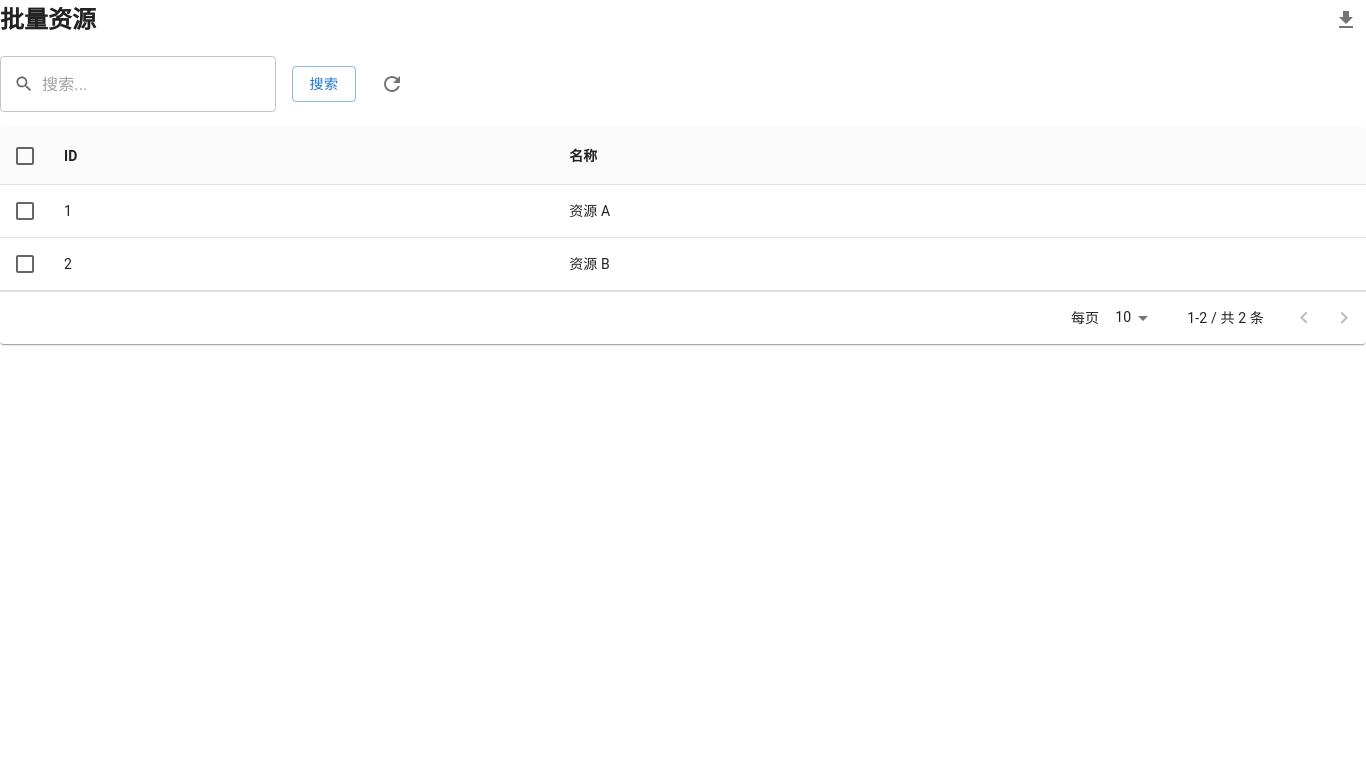
Test case: CrudTablePage › keeps batch delete failures visible and retains selected ids
Expected: the text "资源 A" is shown, [553,185,1365,238]
Click the checkbox in the row of "资源 A": (25, 211) [13,199,37,223]
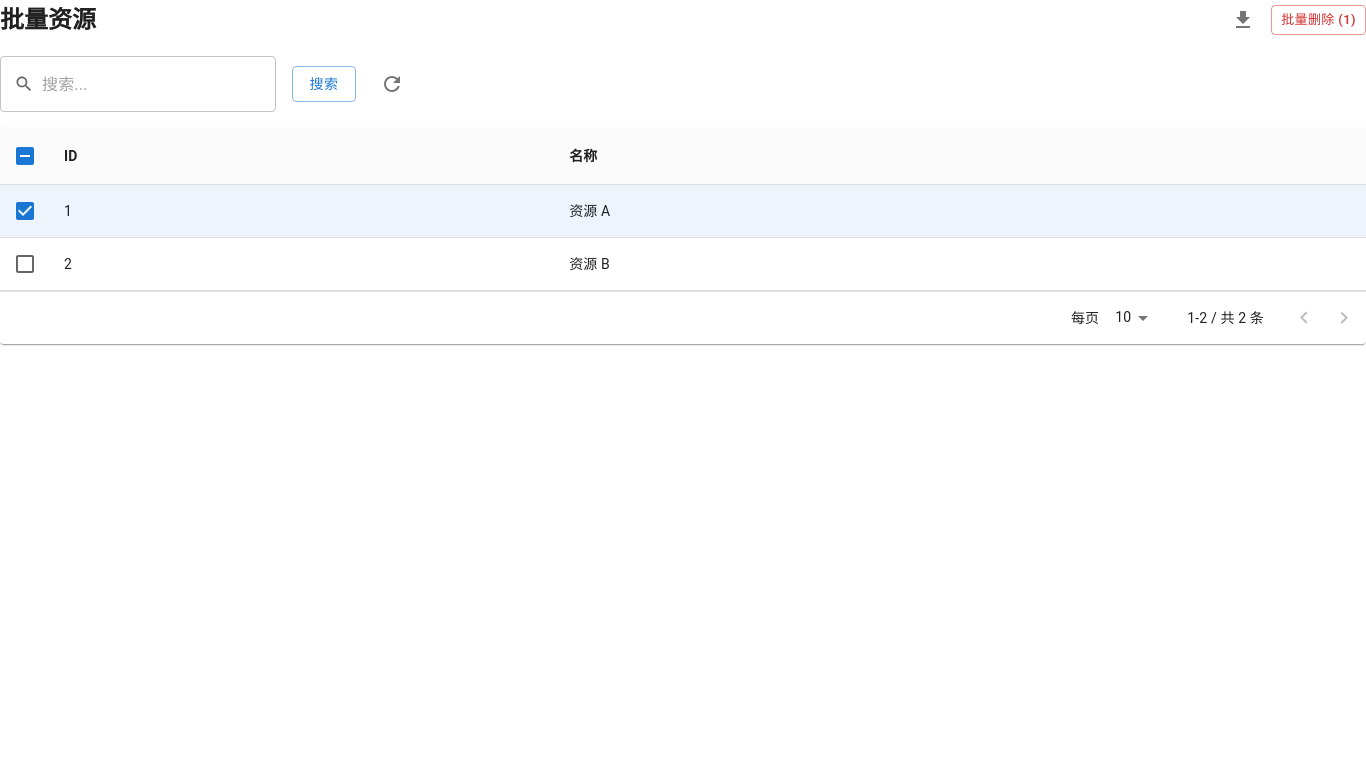
Expected: the element with test id "datatable-page-shell" has attribute data-selected-count="1", [0,0,1365,344]
Click the button with test id "datatable-batch-delete-open-button": (1319, 20) [1271,5,1365,35]
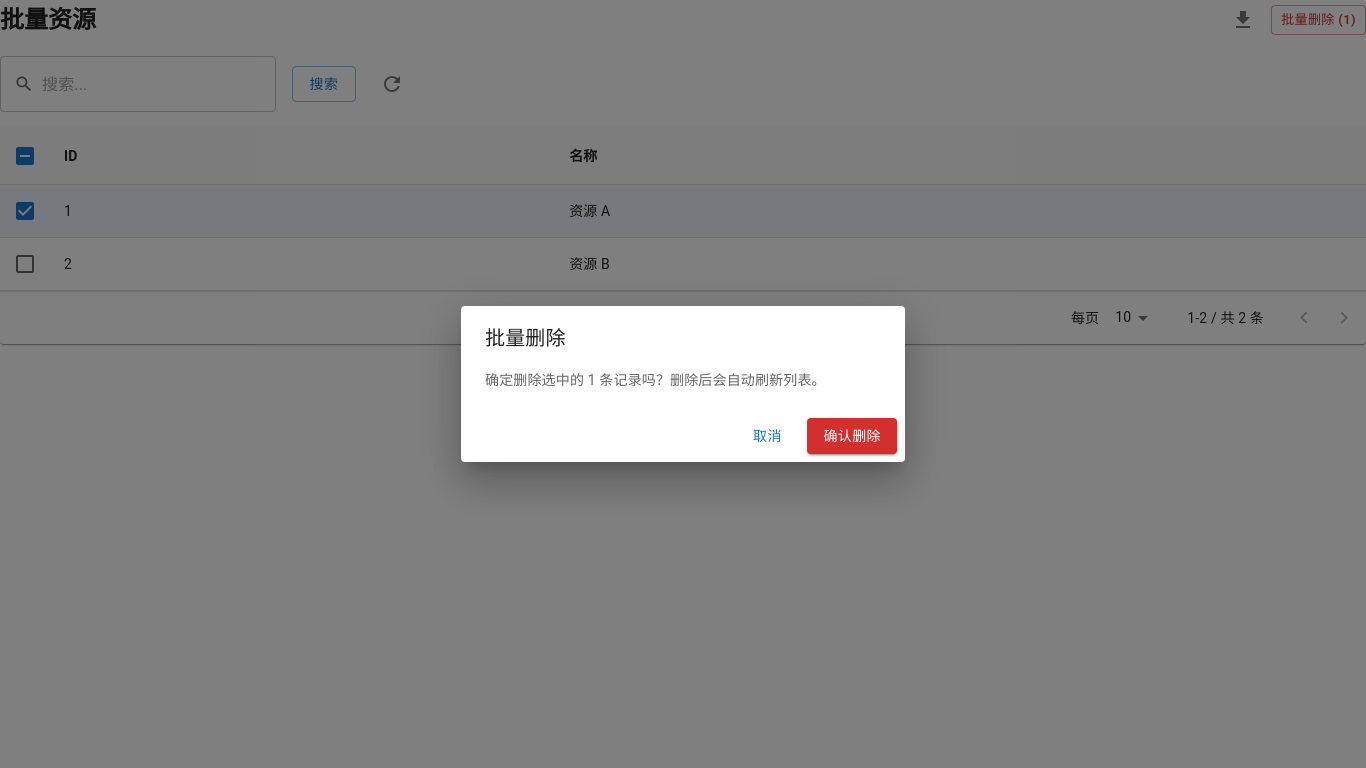
Click the button with test id "datatable-batch-delete-confirm-button": (852, 436) [807,418,897,454]
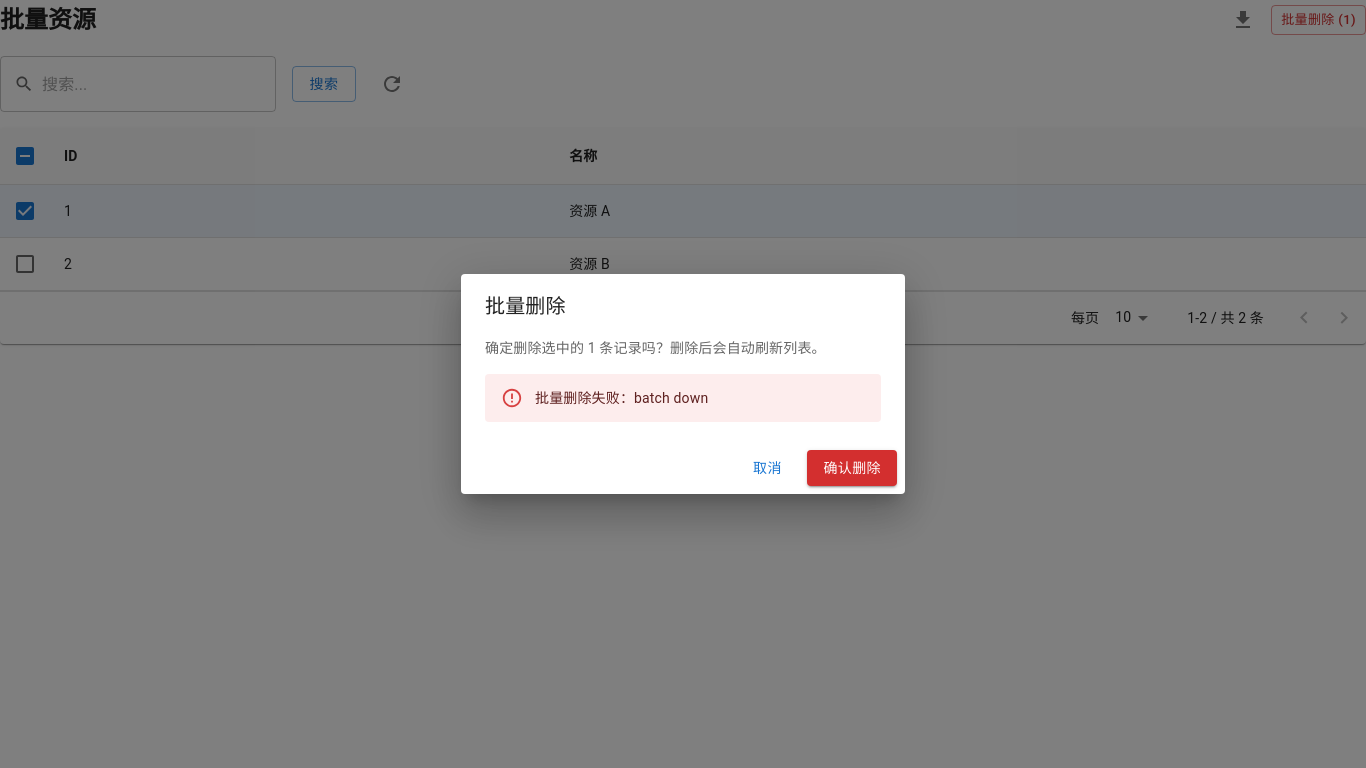
Expected: the message with test id "datatable-batch-delete-error" shows "batch down", [634,390,708,406]
